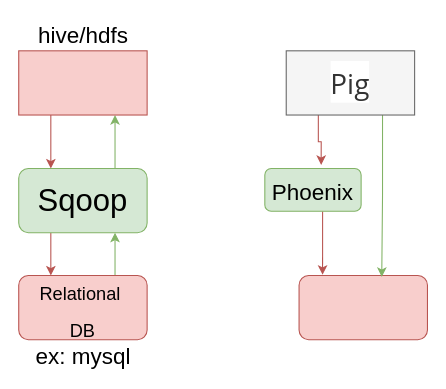
This 446x389 diagram has some shape labels left out. The shapes that lost their labels are listed below. From the top down, each one's centre as x and y in pixels, then its label:
At pixel 82 82: "Hadoop".
At pixel 362 307: "HBase".
